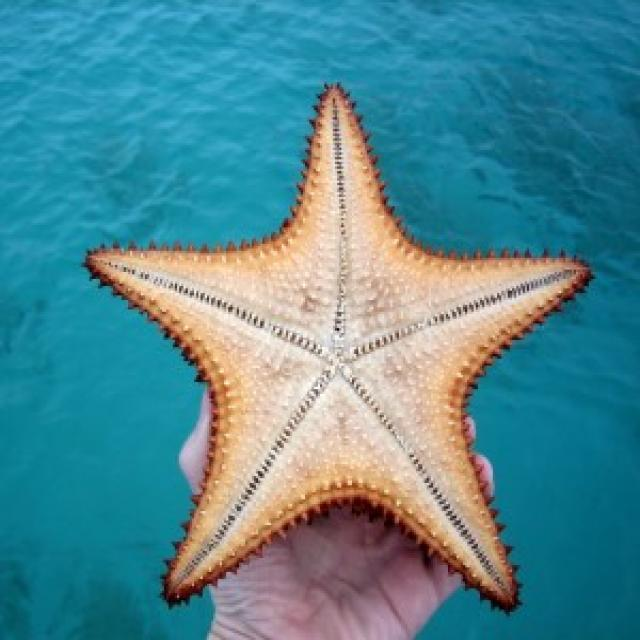Starfish: (45, 45, 620, 621)
